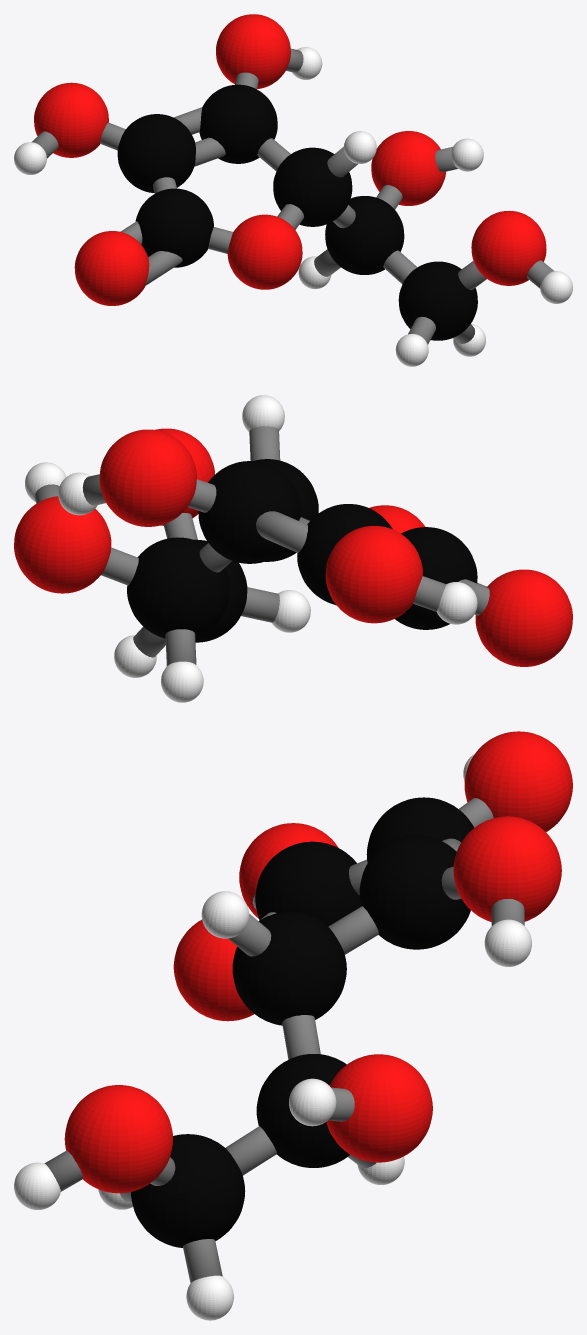
File: ACIDO ISOASCORBICO.obj
3 views of the same model, one above another, from view 1: azimuth 30°, elevation 25°; view 2: azimuth 150°, elevation 25°; view 3: azimuth 270°, elevation 25° (orthographic). The views are drawn at different scales.
Visible parts, largest first — view 1: Carbon_ball_Sphere.001, Oxygen_ball_Sphere.002, Hydrogen_ball_Sphere, Stick_Cylinder.021_Cylinder.021, Stick_Cylinder.003_Cylinder.003, Stick_Cylinder.007_Cylinder.007, Stick_Cylinder.020_Cylinder.020, Stick_Cylinder_Cylinder, Stick_Cylinder.017_Cylinder.017, Stick_Cylinder.014_Cylinder.014, Stick_Cylinder.009_Cylinder.009, Stick_Cylinder.015_Cylinder.015; view 2: Oxygen_ball_Sphere.002, Carbon_ball_Sphere.001, Hydrogen_ball_Sphere, Stick_Cylinder.006_Cylinder.006, Stick_Cylinder.015_Cylinder.015, Stick_Cylinder.002_Cylinder.002, Stick_Cylinder_Cylinder, Stick_Cylinder.004_Cylinder.004, Stick_Cylinder.005_Cylinder.005, Stick_Cylinder.017_Cylinder.017, Stick_Cylinder.008_Cylinder.008, Stick_Cylinder.016_Cylinder.016 (+3 smaller); view 3: Carbon_ball_Sphere.001, Oxygen_ball_Sphere.002, Hydrogen_ball_Sphere, Stick_Cylinder.003_Cylinder.003, Stick_Cylinder.007_Cylinder.007, Stick_Cylinder.001_Cylinder.001, Stick_Cylinder.016_Cylinder.016, Stick_Cylinder_Cylinder, Stick_Cylinder.018_Cylinder.018.
Boxes of the visible parts, left/top/right/bottom form: Carbon_ball_Sphere.001: left=117, top=84, right=477, bottom=340; Oxygen_ball_Sphere.002: left=34, top=14, right=546, bottom=305; Hydrogen_ball_Sphere: left=14, top=47, right=572, bottom=366; Stick_Cylinder.021_Cylinder.021: left=145, top=251, right=182, bottom=285; Stick_Cylinder.003_Cylinder.003: left=383, top=250, right=417, bottom=284; Stick_Cylinder.007_Cylinder.007: left=257, top=138, right=290, bottom=171; Stick_Cylinder.020_Cylinder.020: left=194, top=137, right=225, bottom=166; Stick_Cylinder_Cylinder: left=327, top=146, right=357, bottom=177; Stick_Cylinder.017_Cylinder.017: left=458, top=261, right=486, bottom=289; Stick_Cylinder.014_Cylinder.014: left=208, top=227, right=233, bottom=253; Stick_Cylinder.009_Cylinder.009: left=100, top=122, right=125, bottom=150; Stick_Cylinder.015_Cylinder.015: left=408, top=316, right=435, bottom=344; Oxygen_ball_Sphere.002: left=14, top=428, right=572, bottom=666; Carbon_ball_Sphere.001: left=127, top=459, right=477, bottom=642; Hydrogen_ball_Sphere: left=25, top=395, right=477, bottom=702; Stick_Cylinder.006_Cylinder.006: left=256, top=511, right=307, bottom=552; Stick_Cylinder.015_Cylinder.015: left=241, top=587, right=279, bottom=622; Stick_Cylinder.002_Cylinder.002: left=165, top=629, right=196, bottom=666; Stick_Cylinder_Cylinder: left=249, top=426, right=280, bottom=460; Stick_Cylinder.004_Cylinder.004: left=101, top=547, right=138, bottom=585; Stick_Cylinder.005_Cylinder.005: left=413, top=576, right=446, bottom=611; Stick_Cylinder.017_Cylinder.017: left=163, top=513, right=197, bottom=539; Stick_Cylinder.008_Cylinder.008: left=188, top=479, right=216, bottom=512; Stick_Cylinder.016_Cylinder.016: left=133, top=626, right=165, bottom=657; Carbon_ball_Sphere.001: left=131, top=797, right=474, bottom=1247; Oxygen_ball_Sphere.002: left=64, top=731, right=572, bottom=1193; Hydrogen_ball_Sphere: left=14, top=754, right=531, bottom=1320; Stick_Cylinder.003_Cylinder.003: left=225, top=1126, right=276, bottom=1175; Stick_Cylinder.007_Cylinder.007: left=328, top=906, right=378, bottom=954; Stick_Cylinder.001_Cylinder.001: left=282, top=1015, right=320, bottom=1059; Stick_Cylinder.016_Cylinder.016: left=183, top=1239, right=222, bottom=1283; Stick_Cylinder_Cylinder: left=228, top=913, right=271, bottom=956; Stick_Cylinder.018_Cylinder.018: left=44, top=1150, right=83, bottom=1191.
Size of the model in its own units: 8.24 by 5.58 by 6.77.
